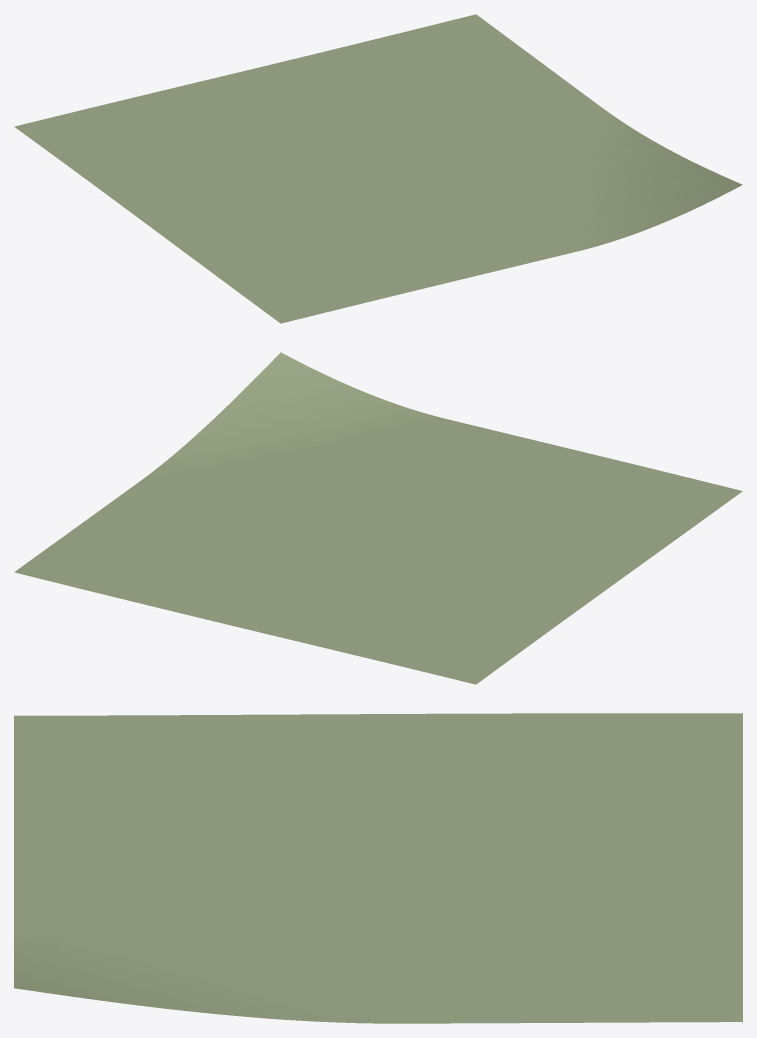
The model's file is desert-23-18.glb.
3 renders of one model, top to bottom at view 1: azimuth 30°, elevation 25°; view 2: azimuth 150°, elevation 25°; view 3: azimuth 270°, elevation 25°, orthographic. The views are drawn at different scales.
Parts seen in each view (by area): view 1: desert-23-18; view 2: desert-23-18; view 3: desert-23-18.
Part boxes in pixels (x1,y1,x2,y2): desert-23-18: (14, 14, 742, 323); desert-23-18: (14, 352, 742, 684); desert-23-18: (14, 713, 742, 1023).
Bounding box in the file's own units: 512 × 28.05 × 512.
